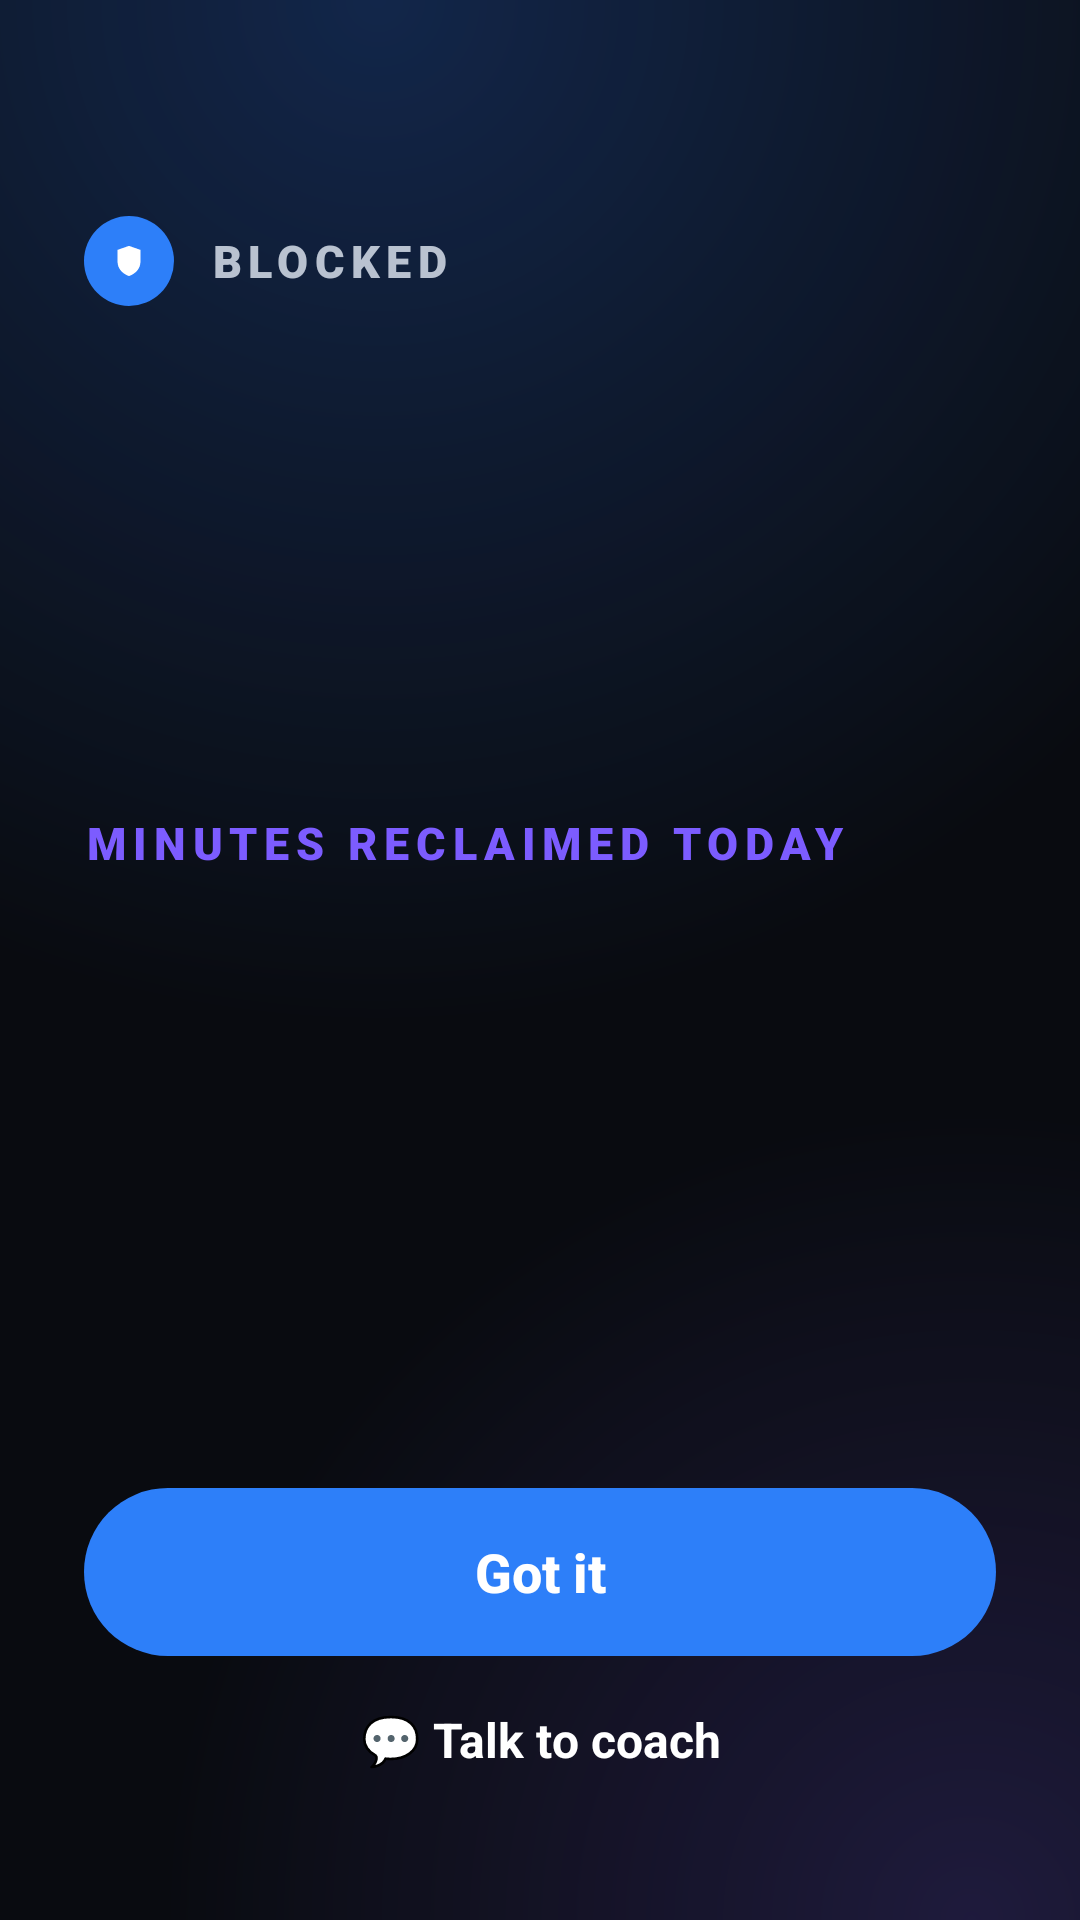

Screen size 1080×1920. Icon name, then its box in pixels as (x1=x1, y1=y1, x2=x2, y2=y2):
shield: (x1=117, y1=246, x2=141, y2=276)
